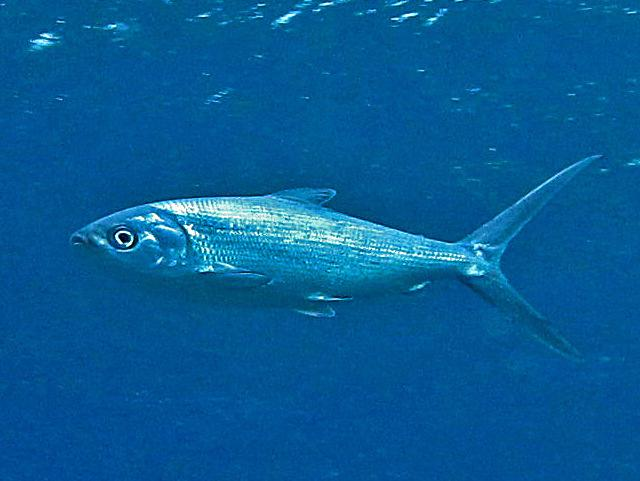Mulut: (51, 214, 104, 274)
Sirip Anal: (388, 268, 448, 314)
Sirip Dada: (190, 254, 282, 310)
Sirip Ekor: (446, 133, 618, 381)
Sirip Perut: (274, 274, 370, 338)
Sirip Punggung: (250, 166, 348, 232)
